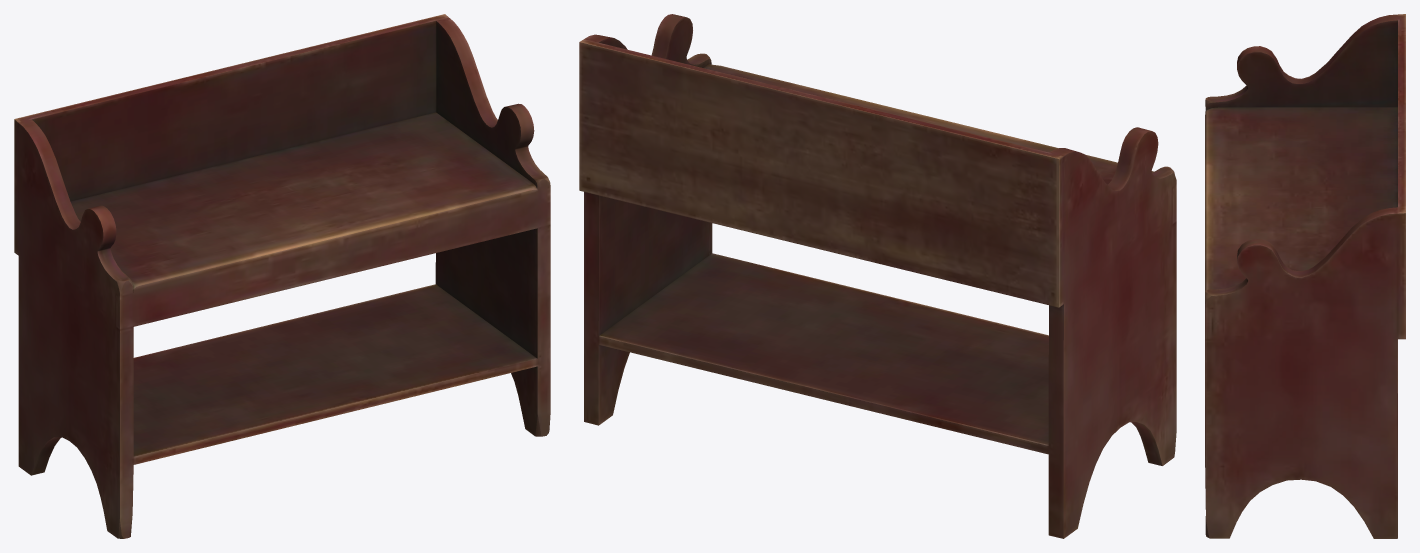
Rendered from painted_wooden_bench.glb.
3 renders of one model, left to right at view 1: azimuth 30°, elevation 25°; view 2: azimuth 150°, elevation 25°; view 3: azimuth 270°, elevation 25°, orthographic. The views are drawn at different scales.
Parts seen in each view (by area): view 1: painted_wooden_bench; view 2: painted_wooden_bench; view 3: painted_wooden_bench.
Part boxes in pixels (<box>): painted_wooden_bench: <box>14,14,550,538</box>; painted_wooden_bench: <box>579,14,1176,538</box>; painted_wooden_bench: <box>1205,14,1405,538</box>.
Size of the model in its own units: 1.16 by 0.8893 by 0.4965.
1 material, 1 textured.
